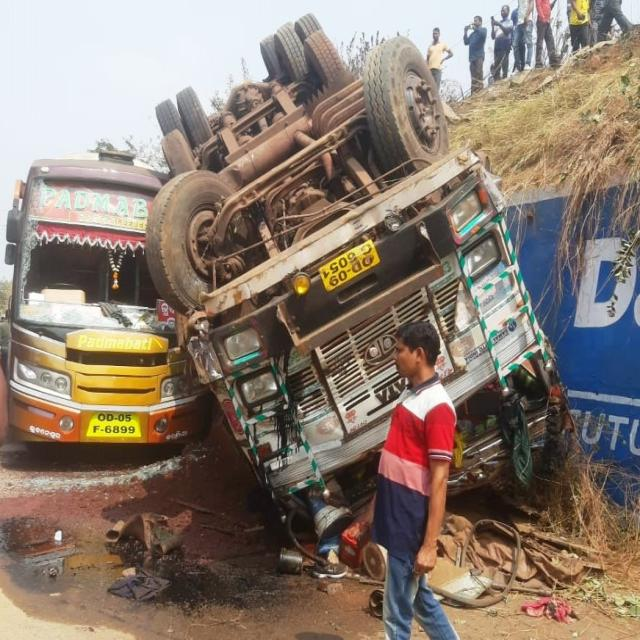accident: (146, 17, 552, 496), (6, 153, 211, 443)
